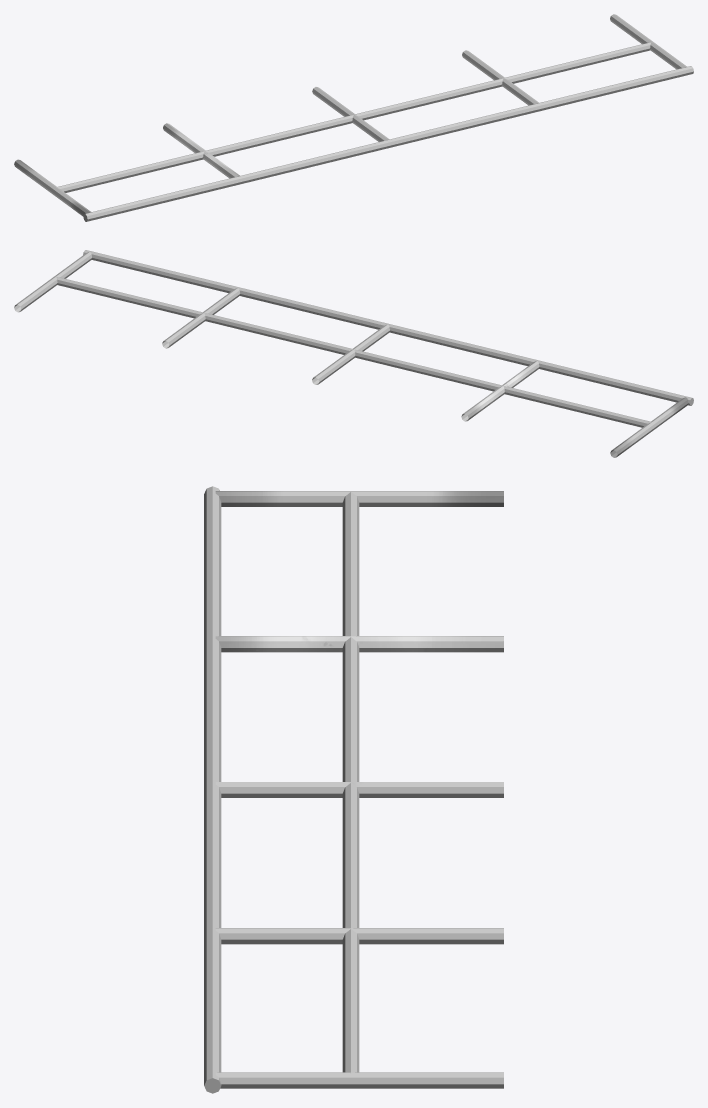
Rendered from railing.glb.
The picture shows the model from 3 angles, top to bottom: view 1: azimuth 30°, elevation 25°; view 2: azimuth 150°, elevation 25°; view 3: azimuth 270°, elevation 25°; orthographic projection. The views are drawn at different scales.
Visible parts, largest first — view 1: Cylinder.007; view 2: Cylinder.007; view 3: Cylinder.007.
Boxes of the visible parts, bbox=[...] form: Cylinder.007: bbox=[14, 14, 693, 221]; Cylinder.007: bbox=[14, 250, 693, 457]; Cylinder.007: bbox=[204, 486, 503, 1093].
Bounding box in the file's own units: 529 × 6.53 × 113.
3 materials, 3 textured.
